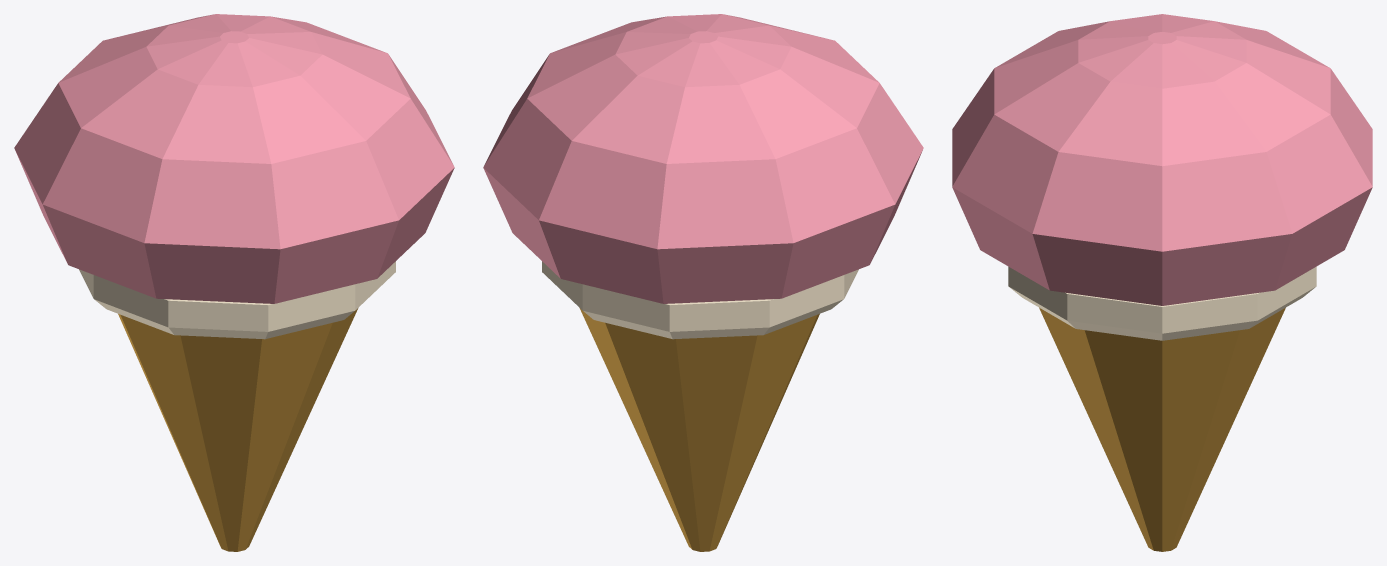
The model's file is SNACK_ICE_CREAM.fbx.
3 renders of one model, left to right at view 1: azimuth 30°, elevation 25°; view 2: azimuth 150°, elevation 25°; view 3: azimuth 270°, elevation 25°, orthographic.
Parts seen in each view (by area): view 1: SNACK_ICE_CREAM; view 2: SNACK_ICE_CREAM; view 3: SNACK_ICE_CREAM.
Boxes of the visible parts, x1,y1,x2,y2 form: SNACK_ICE_CREAM: [14, 14, 454, 551]; SNACK_ICE_CREAM: [483, 14, 923, 551]; SNACK_ICE_CREAM: [952, 14, 1372, 551].
Size of the model in its own units: 3 by 3.8 by 2.85.
